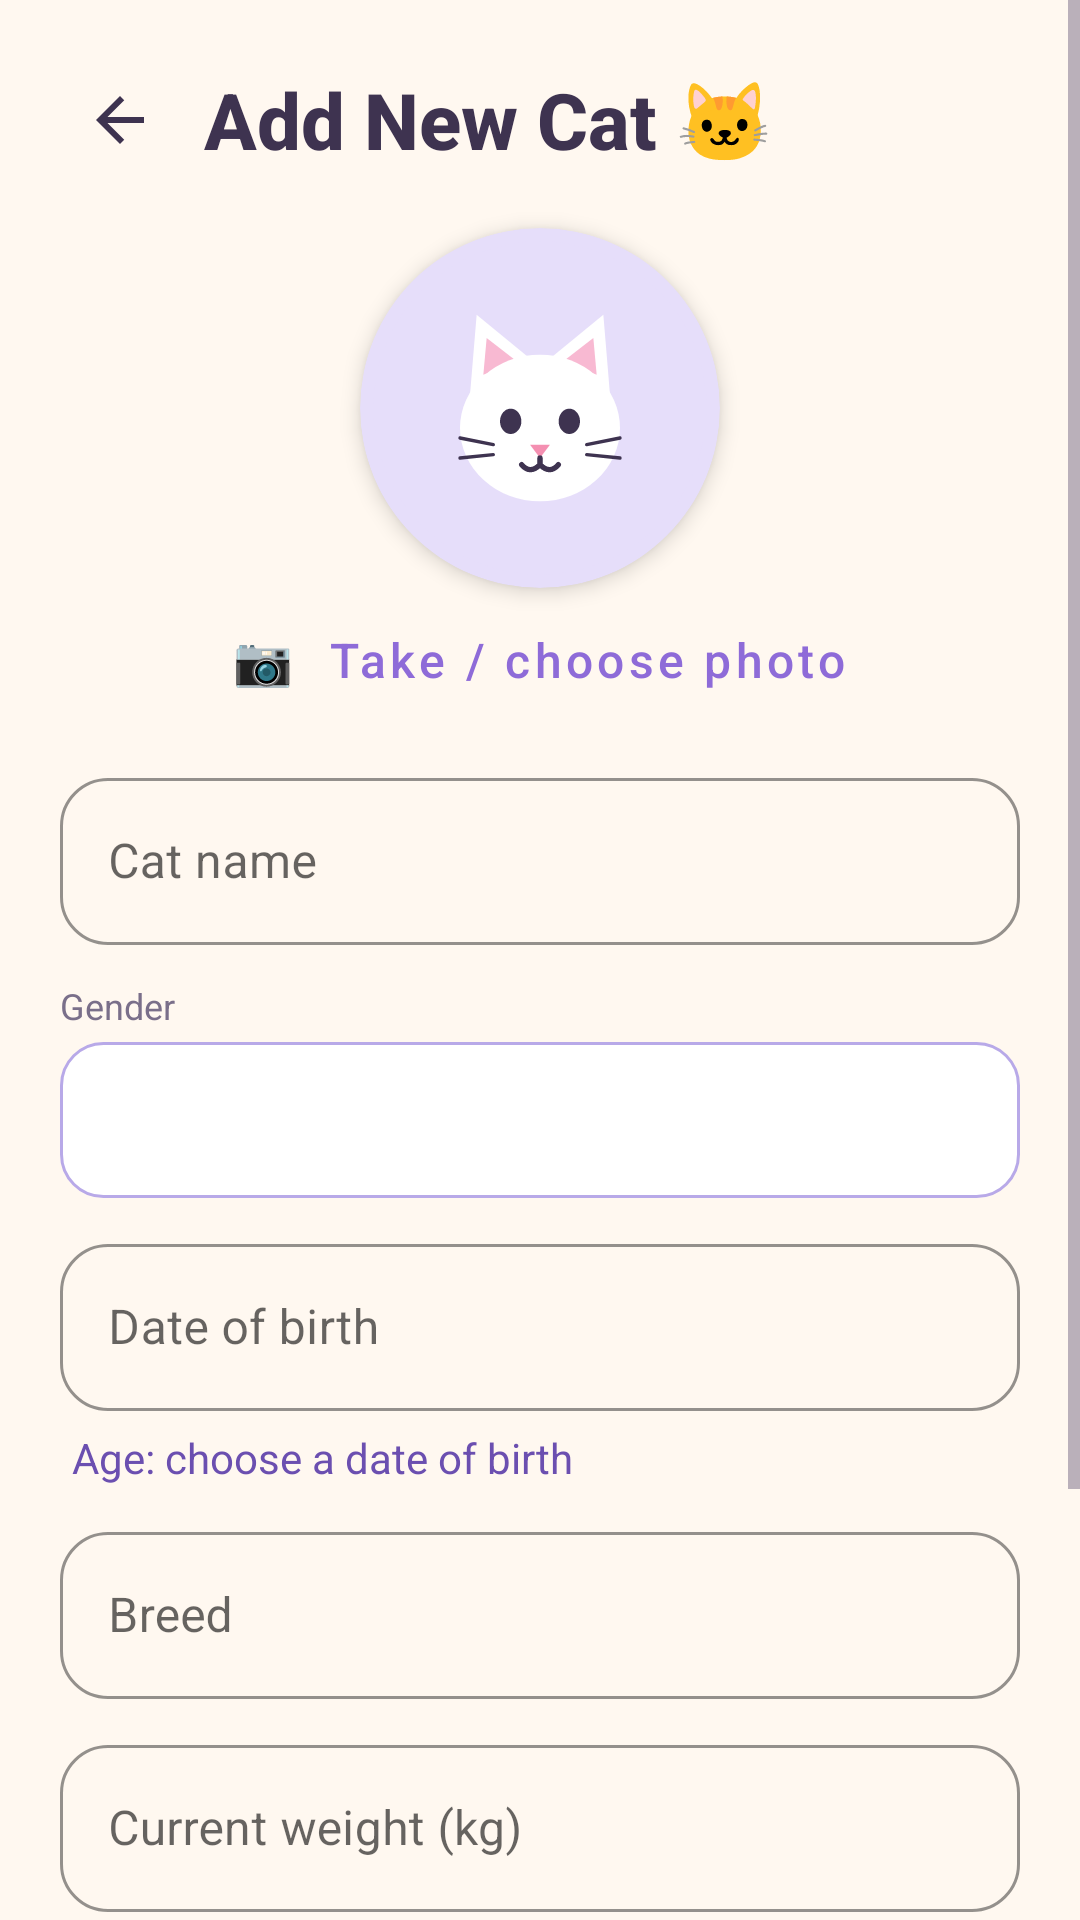

Locate icon controls on the screen. Image size 1080w x 1920h, boxes as (x1=x1, y1=y1, x2=x2, y2=y2).
Back: (x1=96, y1=96, x2=144, y2=144)
